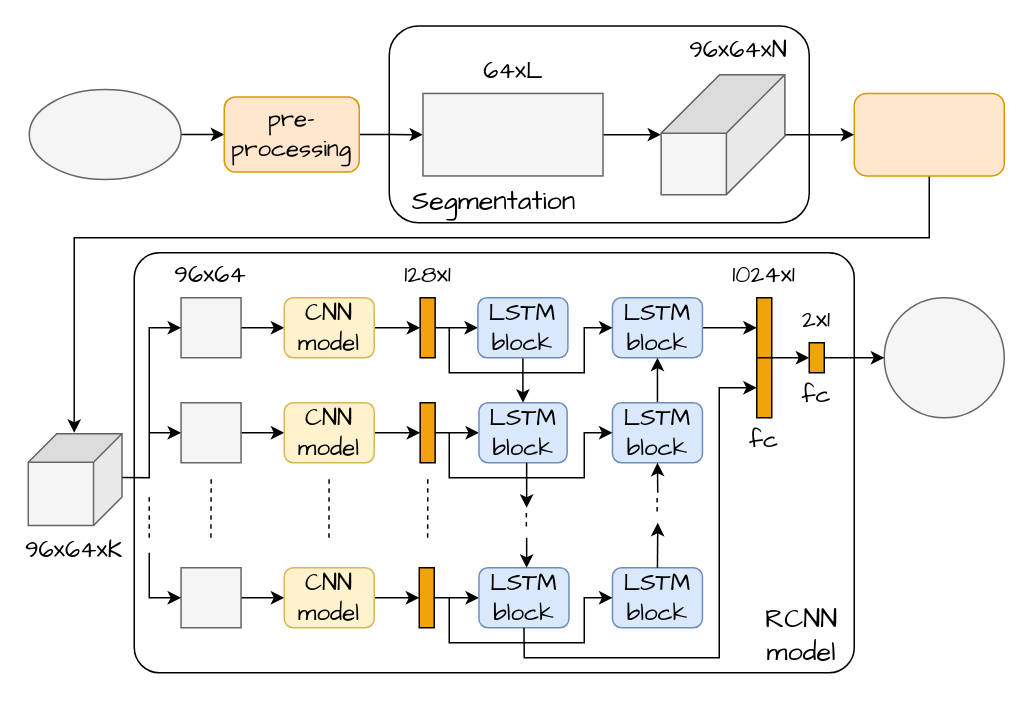
Image size: 1031x701. Some labels were removed from this diagram. Here are the shapes that lost their labels. From the top down, the centre of each, then its label:
point 104,134: audio signal
point 512,134: mel-spectrogram
point 928,134: cough event detection
point 943,357: pos/neg COVID-19 decision
